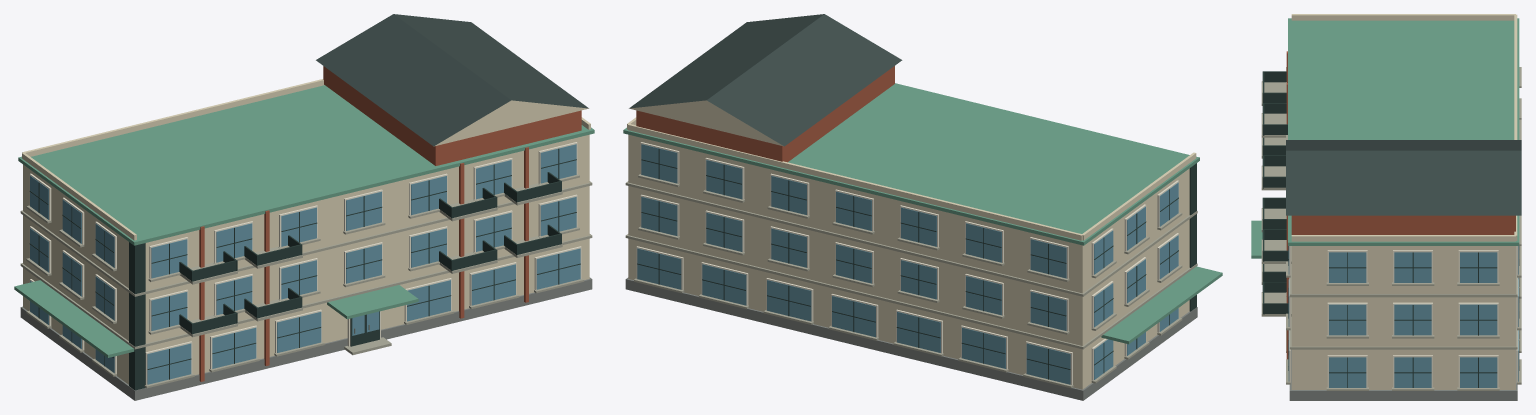
File: ResidentialCorner.obj
The picture shows the model from 3 angles, left to right: view 1: azimuth 30°, elevation 25°; view 2: azimuth 150°, elevation 25°; view 3: azimuth 270°, elevation 25°; orthographic projection.
Parts seen in each view (by area): view 1: ResidentialCorner; view 2: ResidentialCorner; view 3: ResidentialCorner.
Boxes of the visible parts, left/top/right/bottom form: ResidentialCorner: left=14, top=14, right=594, bottom=400; ResidentialCorner: left=623, top=14, right=1222, bottom=400; ResidentialCorner: left=1251, top=14, right=1521, bottom=400.
Bounding box in the file's own units: 30 × 12.41 × 14.45.
Materials: 1 (1 with a texture image).
